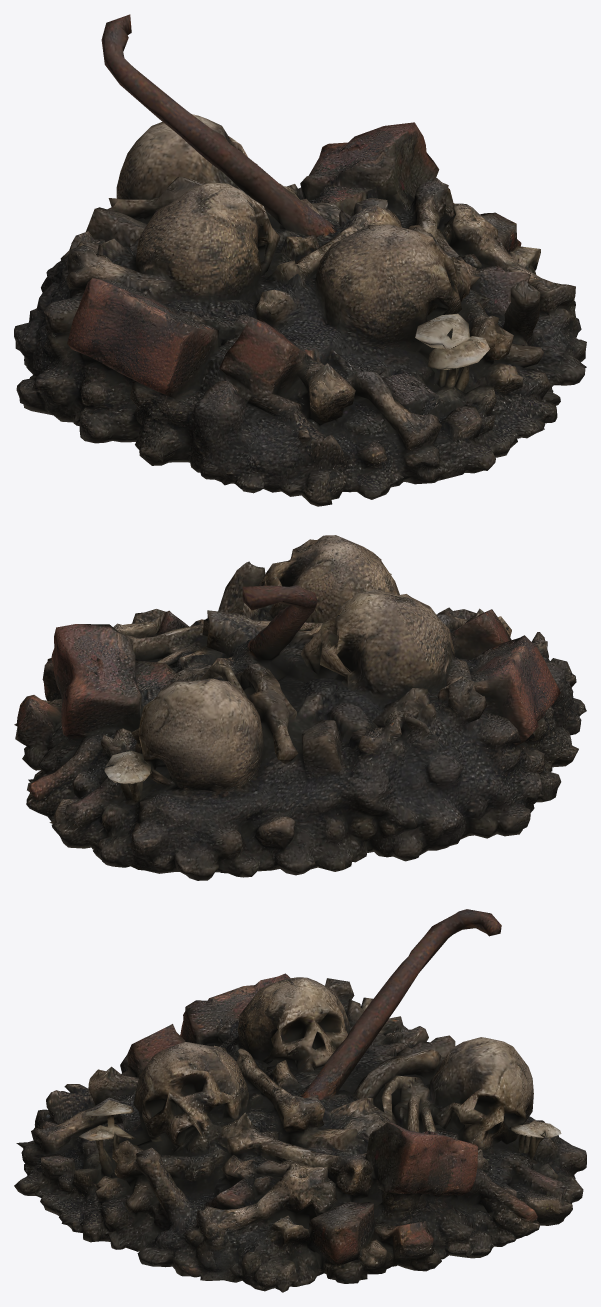
The model's file is raw_bones.glb.
3 views of the same model, one above another, from view 1: azimuth 30°, elevation 25°; view 2: azimuth 150°, elevation 25°; view 3: azimuth 270°, elevation 25° (orthographic). The views are drawn at different scales.
Parts seen in each view (by area): view 1: tripo_node_b95136fb-b013-4d9c-891b-ff04fe9cdfe5; view 2: tripo_node_b95136fb-b013-4d9c-891b-ff04fe9cdfe5; view 3: tripo_node_b95136fb-b013-4d9c-891b-ff04fe9cdfe5.
Boxes of the visible parts, <box> form: tripo_node_b95136fb-b013-4d9c-891b-ff04fe9cdfe5: <box>14,14,586,506</box>; tripo_node_b95136fb-b013-4d9c-891b-ff04fe9cdfe5: <box>14,535,586,880</box>; tripo_node_b95136fb-b013-4d9c-891b-ff04fe9cdfe5: <box>14,909,586,1292</box>.
Size of the model in its own units: 0.9081 by 0.461 by 1.
1 material, 1 textured.
